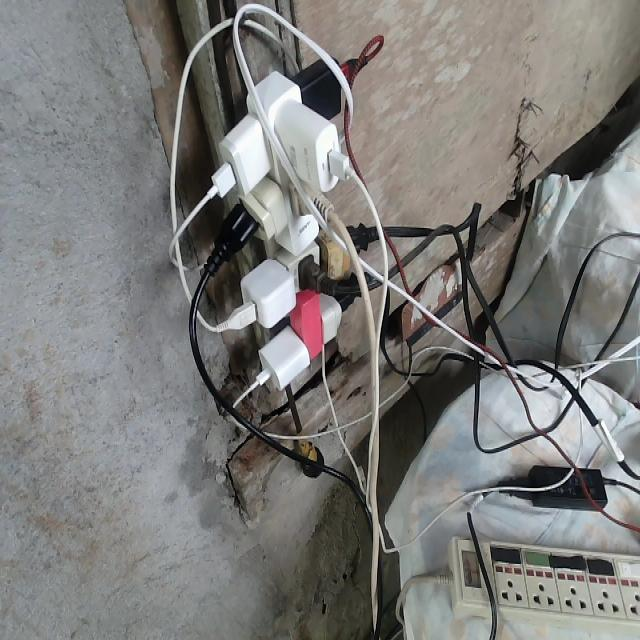-: (203, 52, 377, 393)
